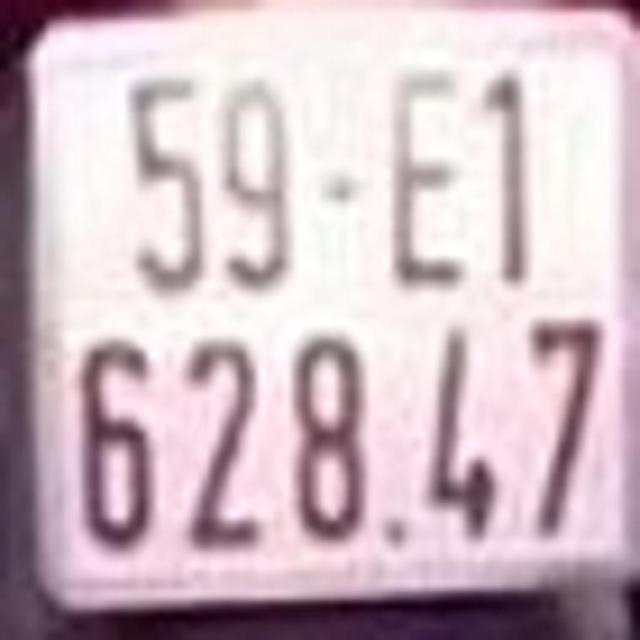1: (482, 61, 524, 278)
2: (191, 332, 260, 556)
4: (433, 328, 505, 537)
5: (126, 69, 212, 290)
6: (82, 340, 150, 550)
7: (535, 311, 604, 538)
8: (300, 340, 366, 542)
9: (223, 79, 291, 291)
E: (393, 67, 467, 296)
